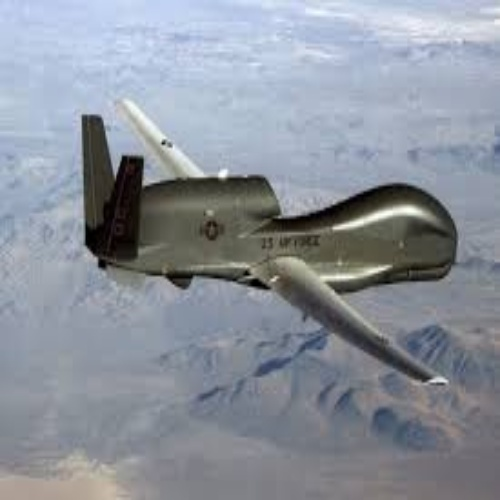uav: (79, 96, 460, 388)
